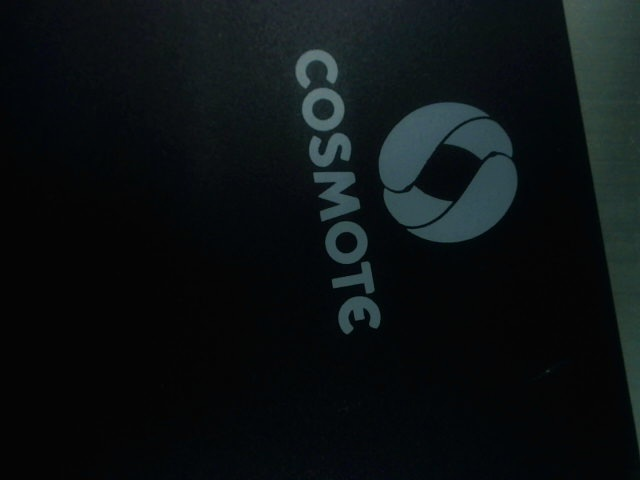AU_COSMOTE: (282, 39, 525, 336)
